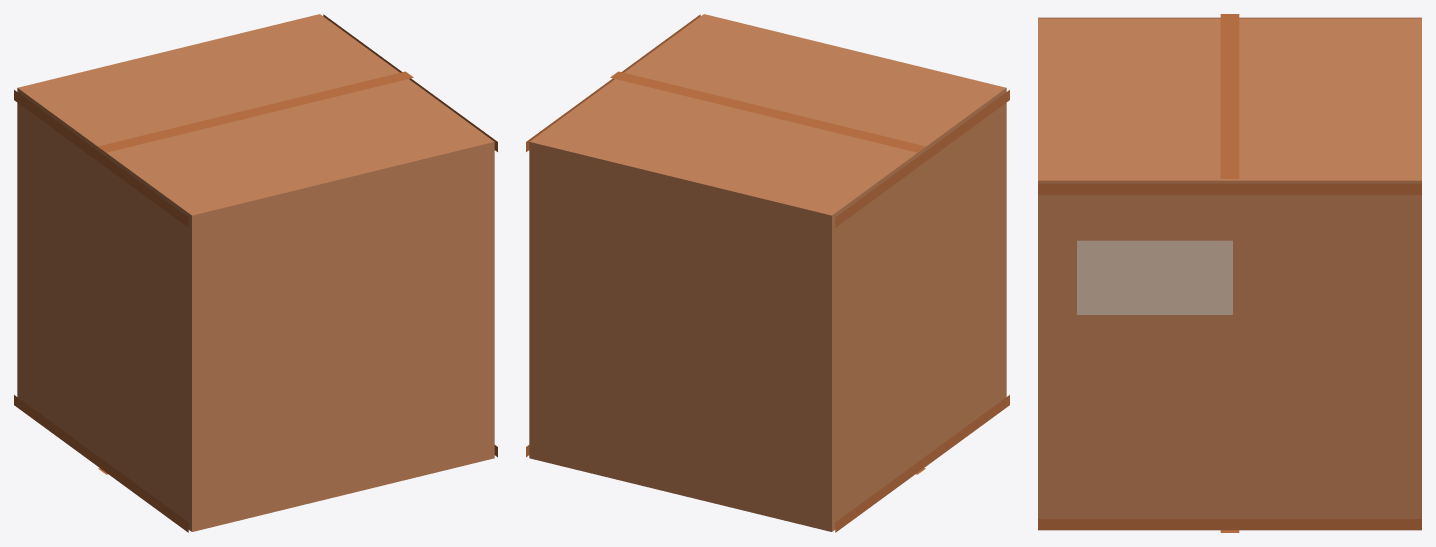
Rendered from SRA_Box_Single_01.glb.
The picture shows the model from 3 angles, left to right: view 1: azimuth 30°, elevation 25°; view 2: azimuth 150°, elevation 25°; view 3: azimuth 270°, elevation 25°; orthographic projection. The views are drawn at different scales.
Visible parts, largest first — view 1: Box_Single_01; view 2: Box_Single_01; view 3: Box_Single_01.
Part boxes in pixels (box(x1,y1,x2,y2)): Box_Single_01: box(14, 14, 497, 532); Box_Single_01: box(526, 14, 1009, 532); Box_Single_01: box(1038, 14, 1421, 532).
Size of the model in its own units: 0.2863 by 0.2848 by 0.28.
Materials: 1 (1 with a texture image).
